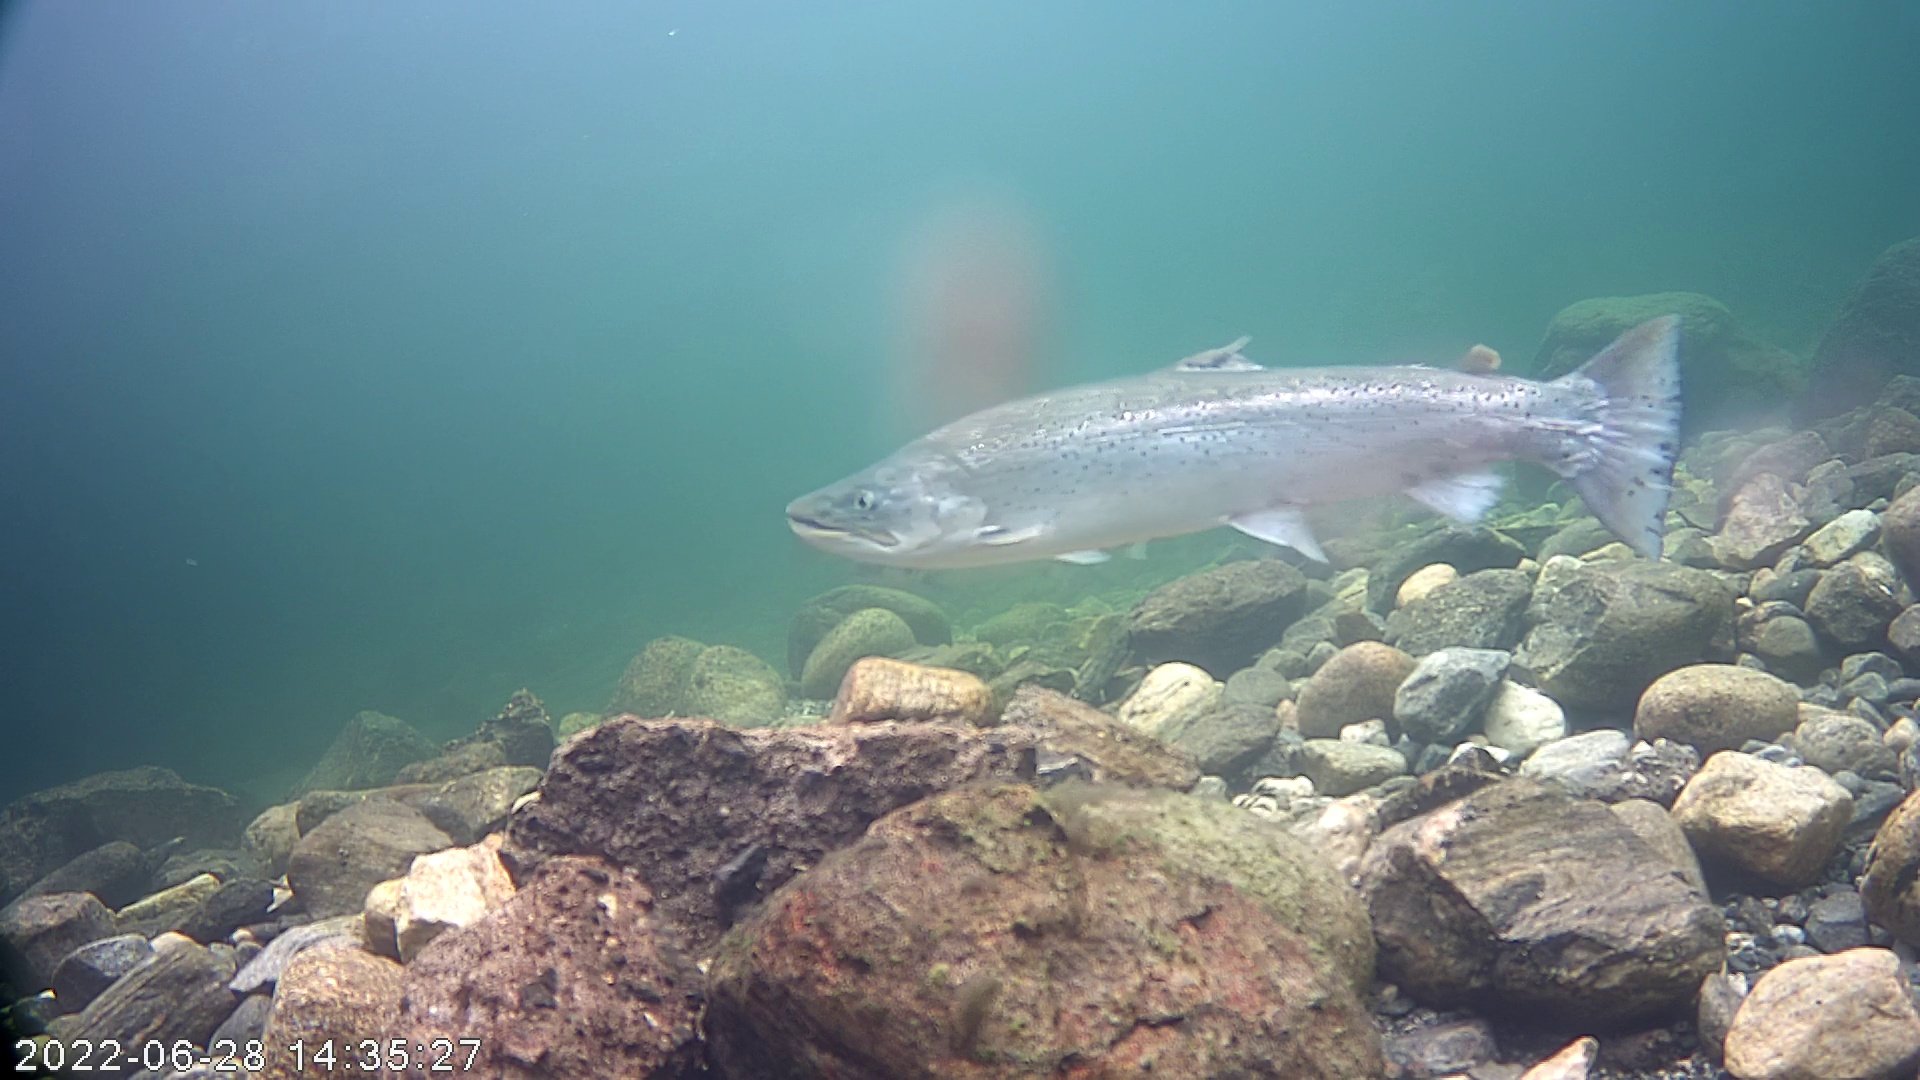salmon: (778, 219, 1721, 638)
